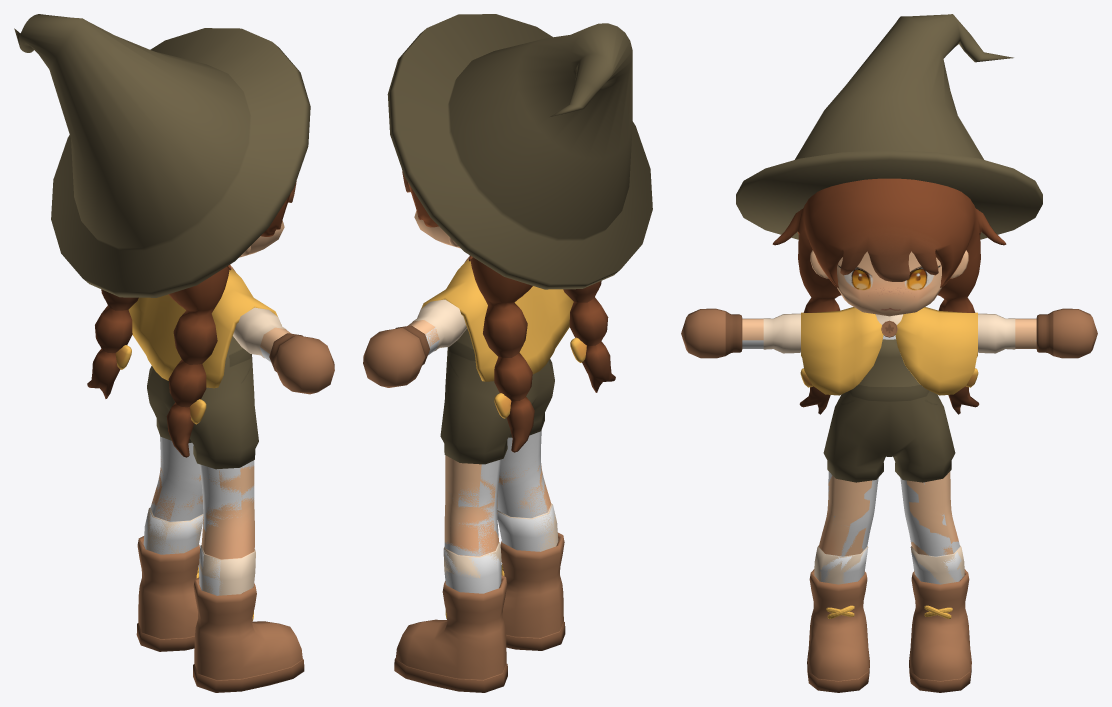
The model's file is Player_ver3.fbx.
3 views of the same model, side by side, from view 1: azimuth 30°, elevation 25°; view 2: azimuth 150°, elevation 25°; view 3: azimuth 270°, elevation 25° (orthographic). The views are drawn at different scales.
Parts seen in each view (by area): view 1: melbbang, glove, hair, head, bodybackup; view 2: melbbang, glove, hair, bodybackup, head; view 3: melbbang, glove, hair, head, bodybackup.
Boxes of the visible parts, x1,y1,x2,y2 form: melbbang: (14,14,310,469); glove: (128,265,334,692); hair: (87,181,296,457); head: (146,220,290,595); bodybackup: (143,347,271,595); melbbang: (387,14,652,464); glove: (363,256,573,692); hair: (402,171,615,452); bodybackup: (425,327,558,593); head: (408,210,558,578); melbbang: (736,14,1042,482); glove: (681,307,1097,692); hair: (772,178,1006,414); head: (742,250,1036,584); bodybackup: (742,335,1036,584).
Size of the model in its own units: 58.02 by 103 by 162.
